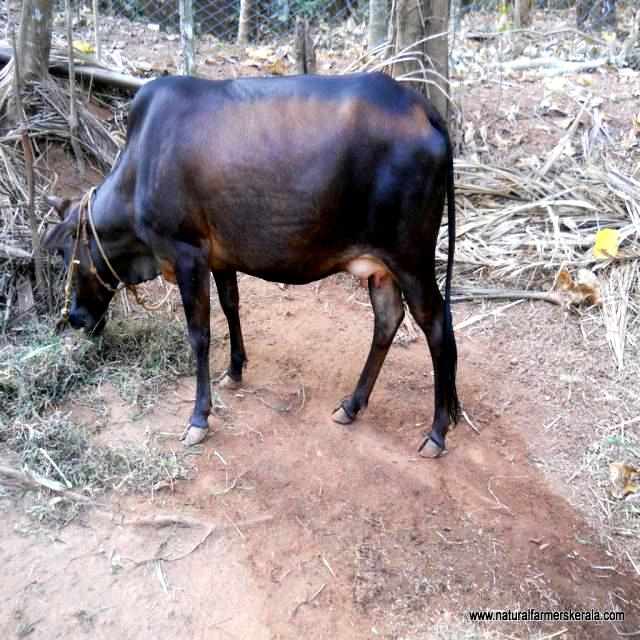COW: (44, 74, 459, 457)
